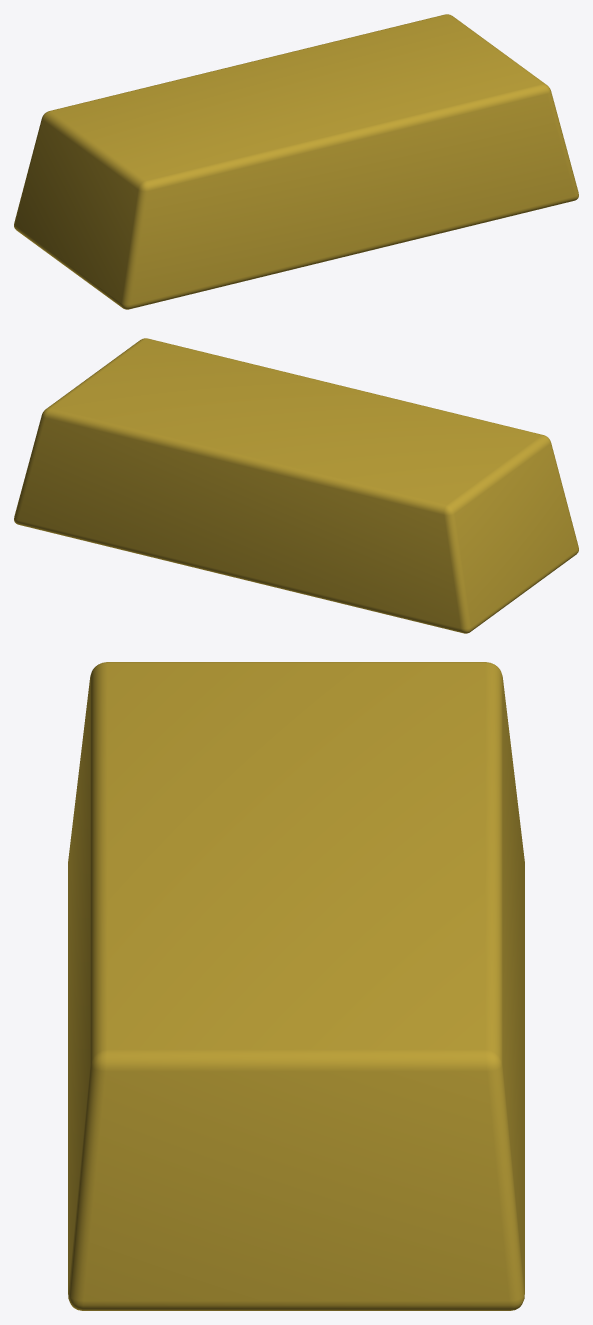
Rendered from Gold_Singular.fbx.
3 views of the same model, one above another, from view 1: azimuth 30°, elevation 25°; view 2: azimuth 150°, elevation 25°; view 3: azimuth 270°, elevation 25° (orthographic). The views are drawn at different scales.
Visible parts, largest first — view 1: Cube.006; view 2: Cube.006; view 3: Cube.006.
Part boxes in pixels (x1,y1,x2,y2): Cube.006: (14,14,578,309); Cube.006: (14,338,578,633); Cube.006: (68,662,524,1310).
Bounding box in the file's own units: 20.1 × 4.95 × 8.7.
